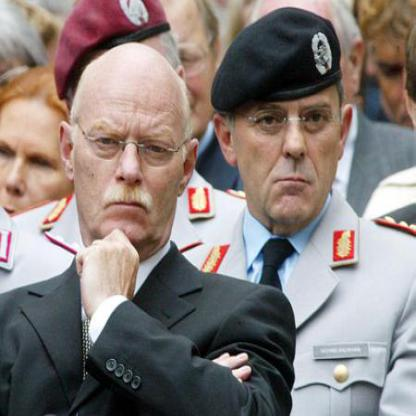face: (69, 44, 189, 247), (235, 36, 343, 229), (1, 78, 74, 245), (134, 1, 219, 142)
